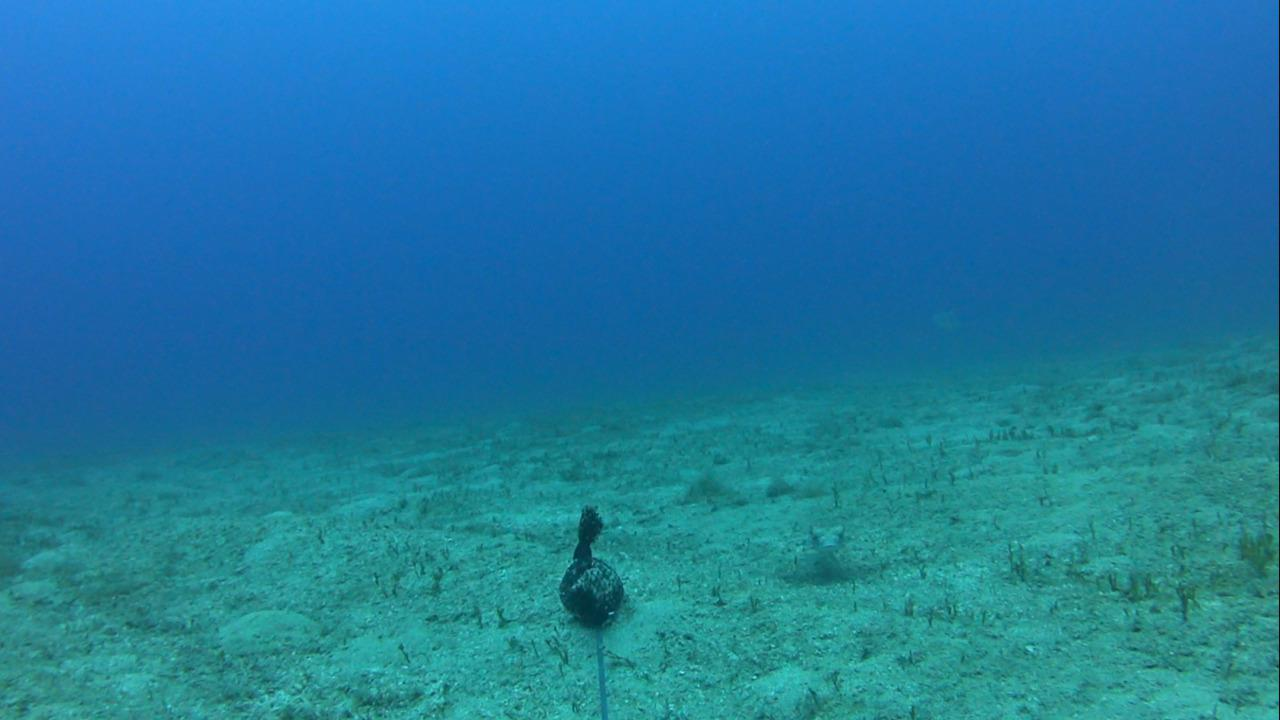dactylopterus: (787, 519, 872, 577)
